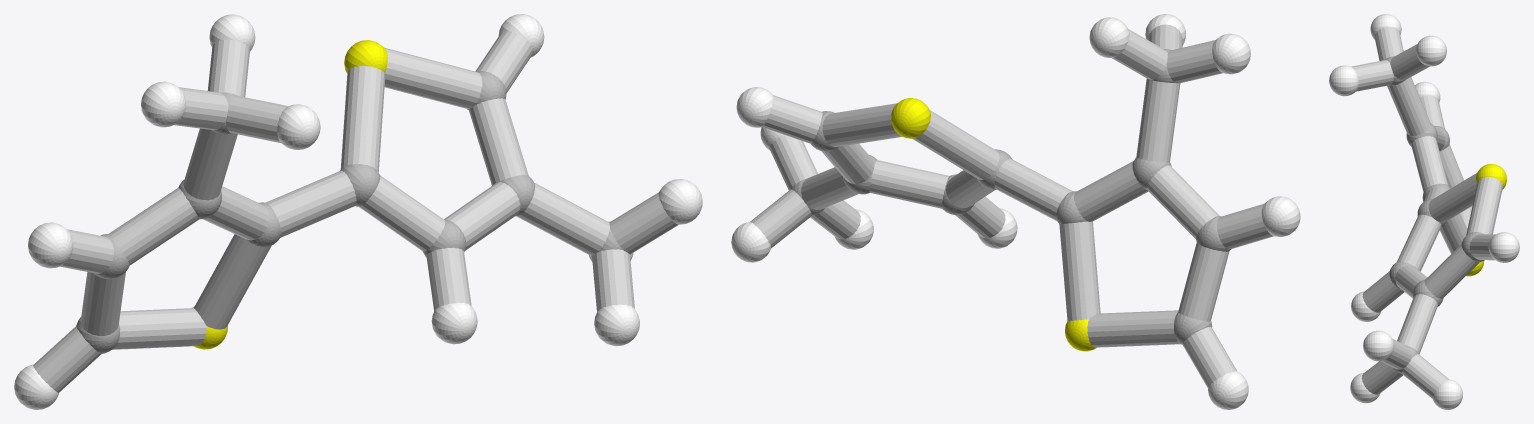
Rendered from Methylthiophene_Phi_20_Theta_300_Methylthiophene.glb.
3 renders of one model, left to right at view 1: azimuth 30°, elevation 25°; view 2: azimuth 150°, elevation 25°; view 3: azimuth 270°, elevation 25°, orthographic. The views are drawn at different scales.
Visible parts, largest first — view 1: grp7965, grp3621, grp1, grp7241; view 2: grp7965, grp3621, grp1, grp7241; view 3: grp7965, grp3621, grp1, grp7241.
Boxes of the visible parts, x1=… form: grp7965: x1=33, y1=31, x2=678, y2=392; grp3621: x1=14, y1=14, x2=702, y2=409; grp1: x1=76, y1=71, x2=630, y2=353; grp7241: x1=192, y1=40, x2=387, y2=349; grp7965: x1=750, y1=24, x2=1273, y2=387; grp3621: x1=731, y1=14, x2=1300, y2=409; grp1: x1=791, y1=49, x2=1231, y2=344; grp7241: x1=891, y1=98, x2=1096, y2=351; grp7965: x1=1351, y1=26, x2=1502, y2=398; grp3621: x1=1329, y1=14, x2=1519, y2=409; grp1: x1=1384, y1=56, x2=1484, y2=373; grp7241: x1=1466, y1=164, x2=1506, y2=276.
Bounding box in the file's own units: 9.57 × 5.39 × 3.68.
